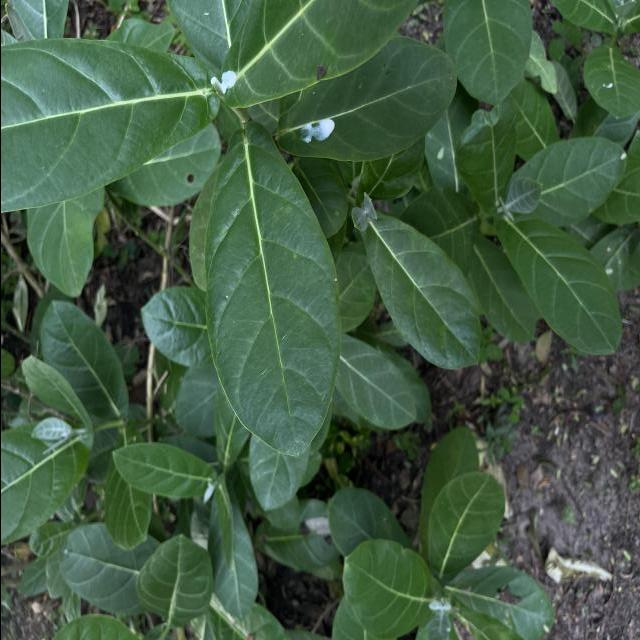Calotropis gigantea: (202, 119, 343, 458), (0, 36, 214, 215), (272, 36, 458, 164), (357, 213, 482, 371), (496, 208, 623, 358), (507, 135, 628, 229), (38, 299, 129, 420), (342, 537, 444, 640), (426, 470, 506, 581), (336, 332, 416, 432), (134, 530, 214, 628), (110, 440, 217, 500)
